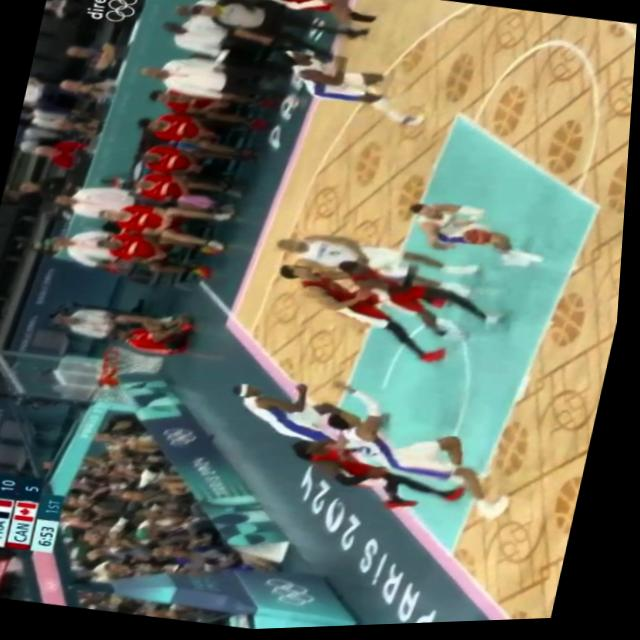ball_handler: (401, 196, 553, 272)
